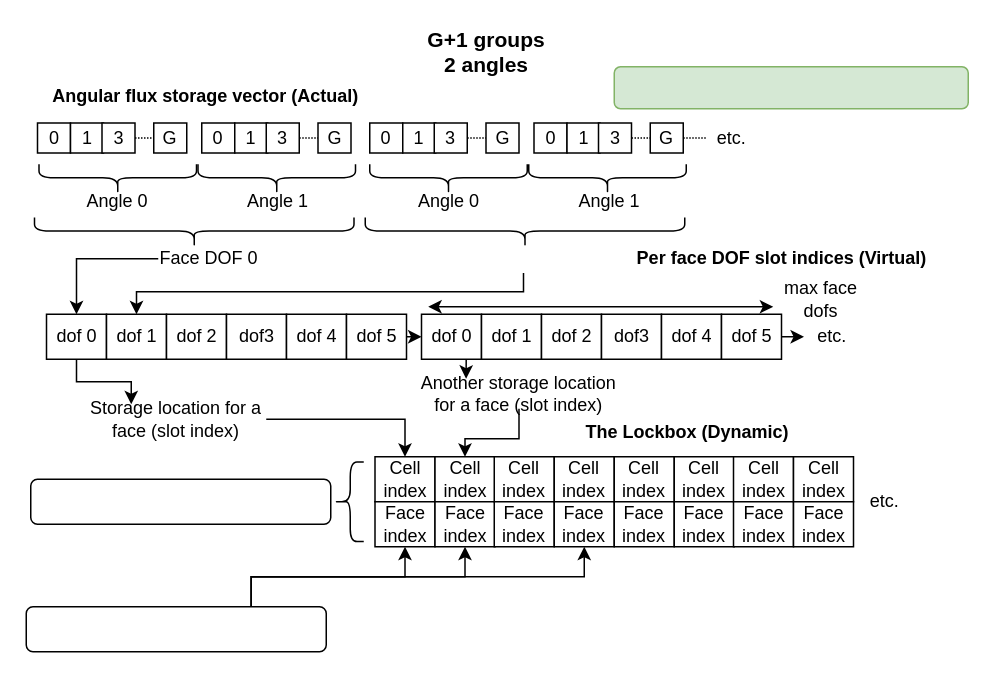
Image size: 995x678. Some labels were removed from this diagram. The centre of each missing label's shape, as x and y in pixels:
"AngleSet: vector<double> local_psi" goes at [790,87].
"Face DOF 1" goes at [524,232].
"vector<int> outb_face_slot_indices ;" goes at [175,628].
"vector<pair<int,short>> lockbox" goes at [180,501].
